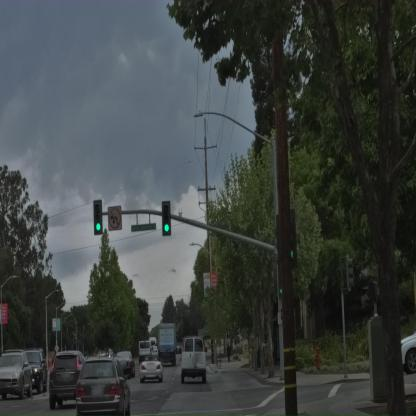bus: (180, 337, 207, 384), (138, 340, 158, 363)
car: (73, 358, 132, 416), (48, 352, 86, 410), (0, 352, 34, 400), (396, 316, 416, 374), (22, 350, 46, 394), (115, 352, 136, 379), (139, 360, 162, 384)
truck: (157, 324, 177, 368)
